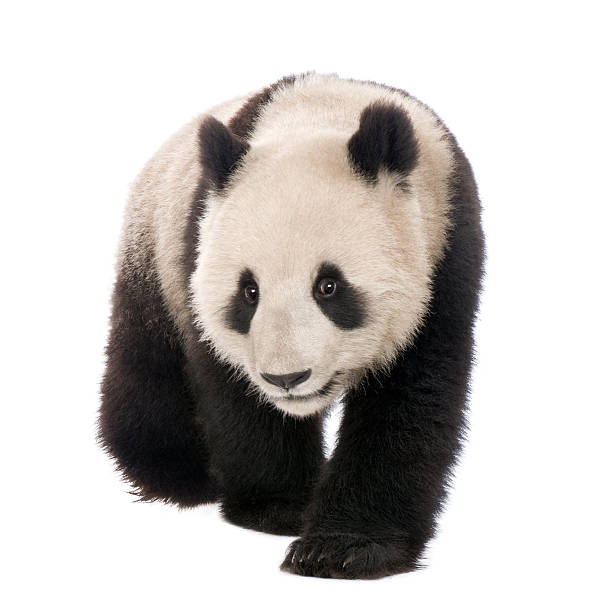panda: (145, 88, 483, 426)
